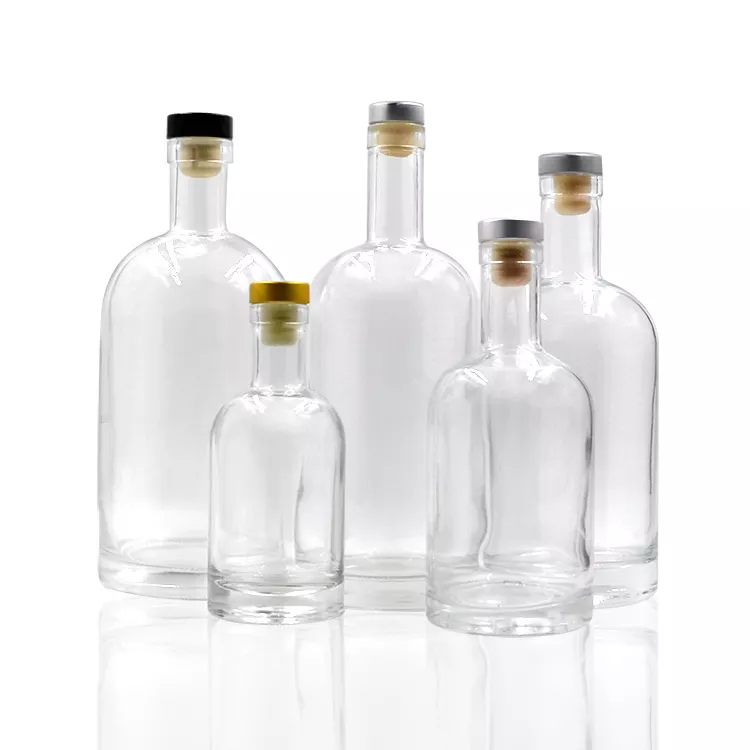glass_bottle: (79, 94, 681, 639)
